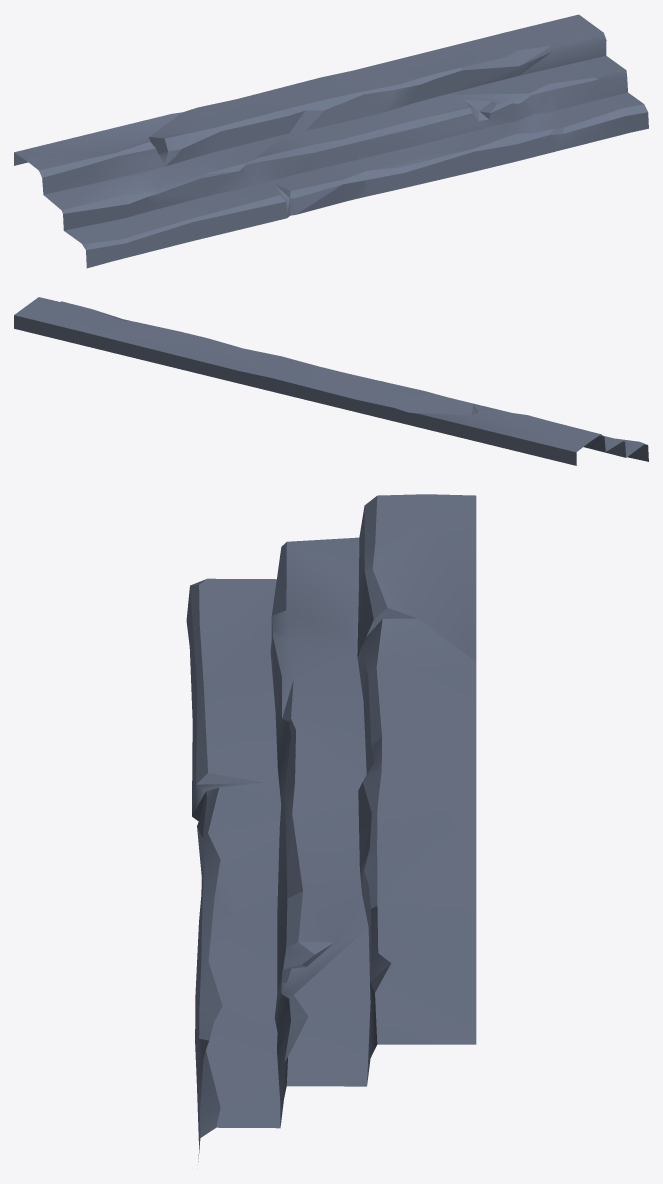
File: Stair_2.fbx
The picture shows the model from 3 angles, top to bottom: view 1: azimuth 30°, elevation 25°; view 2: azimuth 150°, elevation 25°; view 3: azimuth 270°, elevation 25°; orthographic projection. The views are drawn at different scales.
Parts seen in each view (by area): view 1: terrain_stair_103_13_LOD0; view 2: terrain_stair_103_13_LOD0; view 3: terrain_stair_103_13_LOD0.
Part boxes in pixels (bbox=[...]): terrain_stair_103_13_LOD0: bbox=[14, 14, 648, 268]; terrain_stair_103_13_LOD0: bbox=[14, 297, 648, 465]; terrain_stair_103_13_LOD0: bbox=[186, 494, 476, 1161].
Size of the model in its own units: 701 by 75.25 by 156.
Materials: 1 (1 with a texture image).
